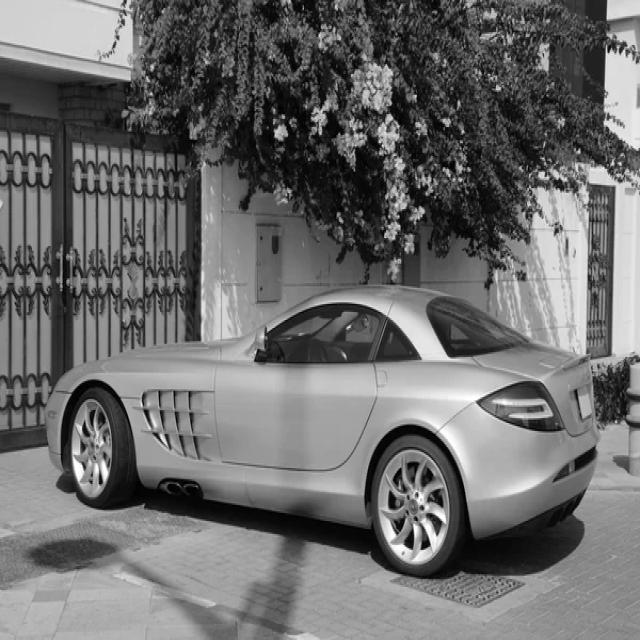Car: (45, 286, 599, 576)
